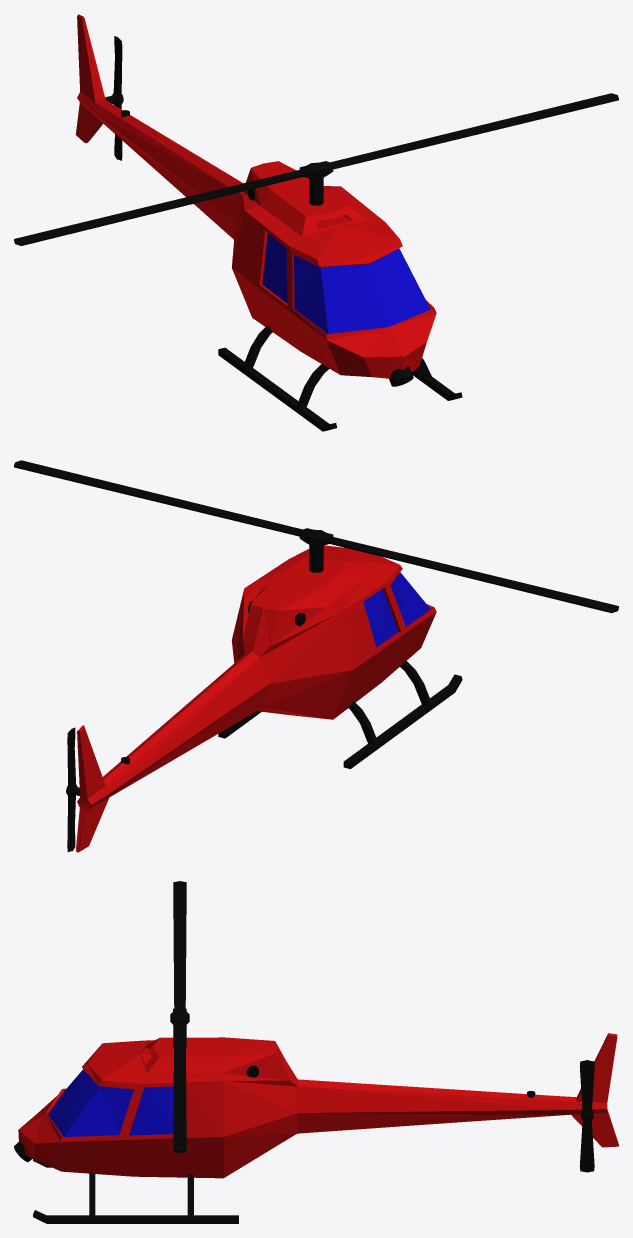
File: helicopter.obj
3 views of the same model, one above another, from view 1: azimuth 30°, elevation 25°; view 2: azimuth 150°, elevation 25°; view 3: azimuth 270°, elevation 25° (orthographic). The views are drawn at different scales.
Visible parts, largest first — view 1: helicopter_body, windows, main_rotor, slides, tail_rotor_tail; view 2: helicopter_body, main_rotor, slides, windows, tail_rotor_tail; view 3: helicopter_body, windows, main_rotor, slides, tail_rotor_tail.
Boxes of the visible parts, x1,y1,x2,y2 form: helicopter_body: (75,14,436,378); windows: (262,233,430,333); main_rotor: (14,93,618,245); slides: (218,326,462,431); tail_rotor_tail: (105,36,123,160); helicopter_body: (75,545,436,852); main_rotor: (14,460,618,613); slides: (218,661,462,768); windows: (363,572,430,647); tail_rotor_tail: (66,727,79,852); helicopter_body: (18,1033,618,1178); windows: (48,1069,173,1136); main_rotor: (170,881,189,1152); slides: (33,1159,238,1223); tail_rotor_tail: (579,1060,594,1172).
Bounding box in the file's own units: 11.49 × 3.59 × 10.87.
